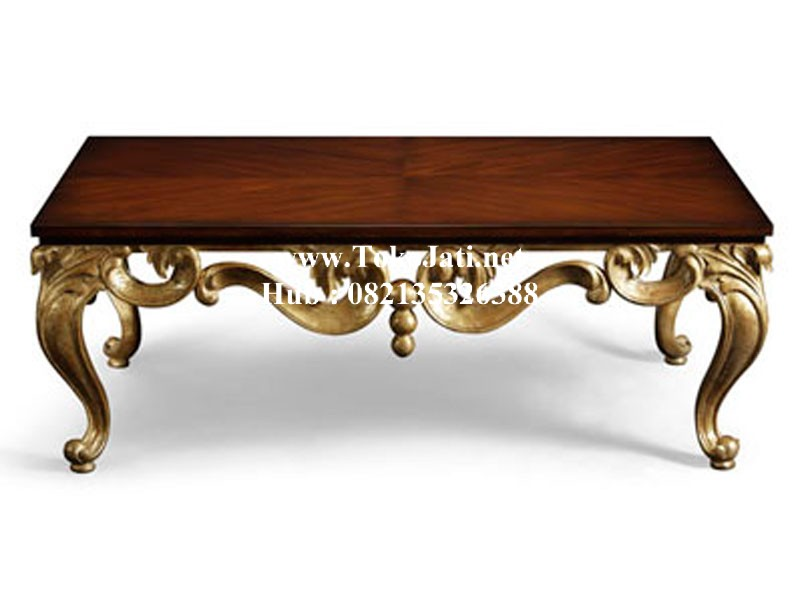Carving Table: (45, 126, 790, 469)
